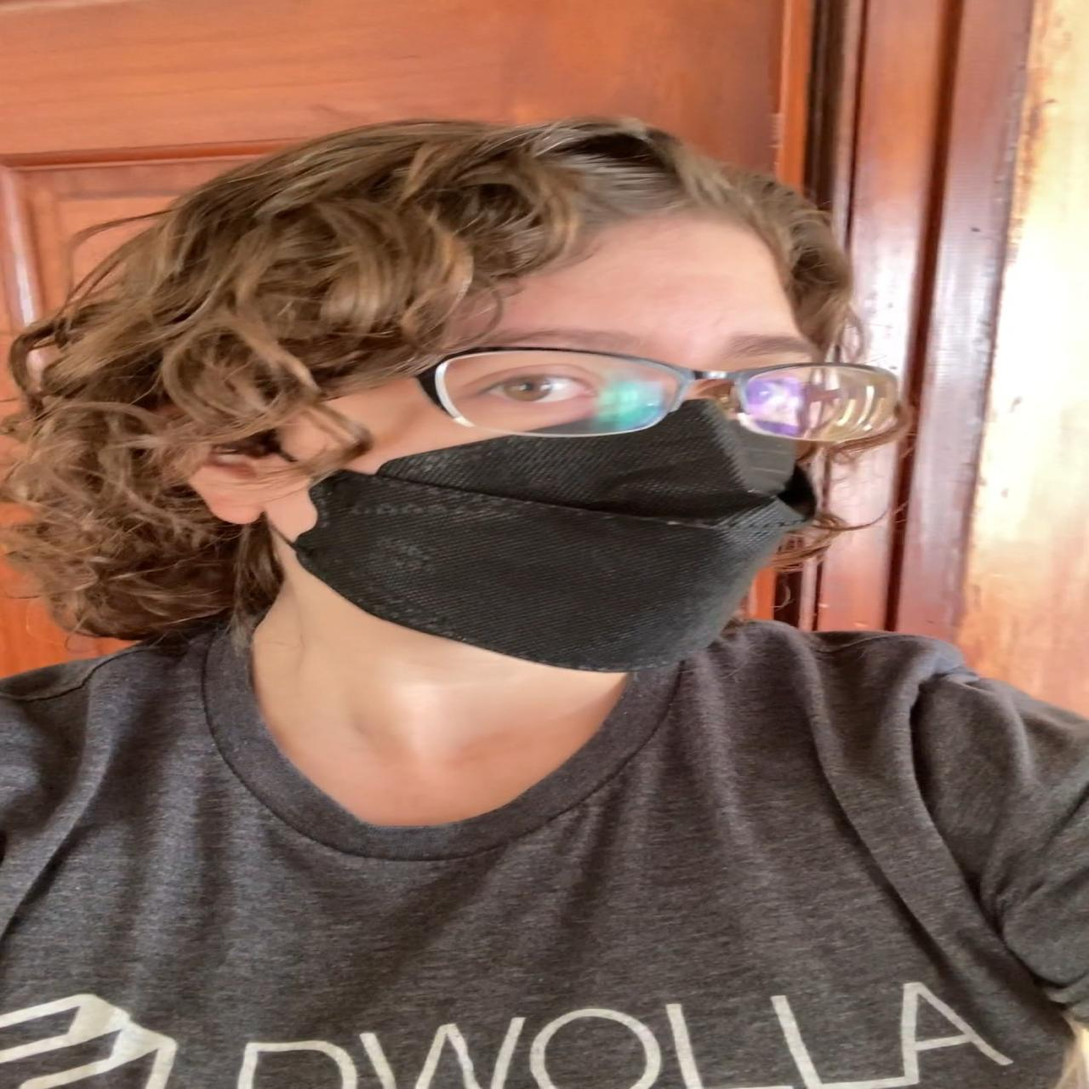NO_Safety_Vest: (11, 635, 1050, 1089)
Person: (0, 110, 1089, 1089)
